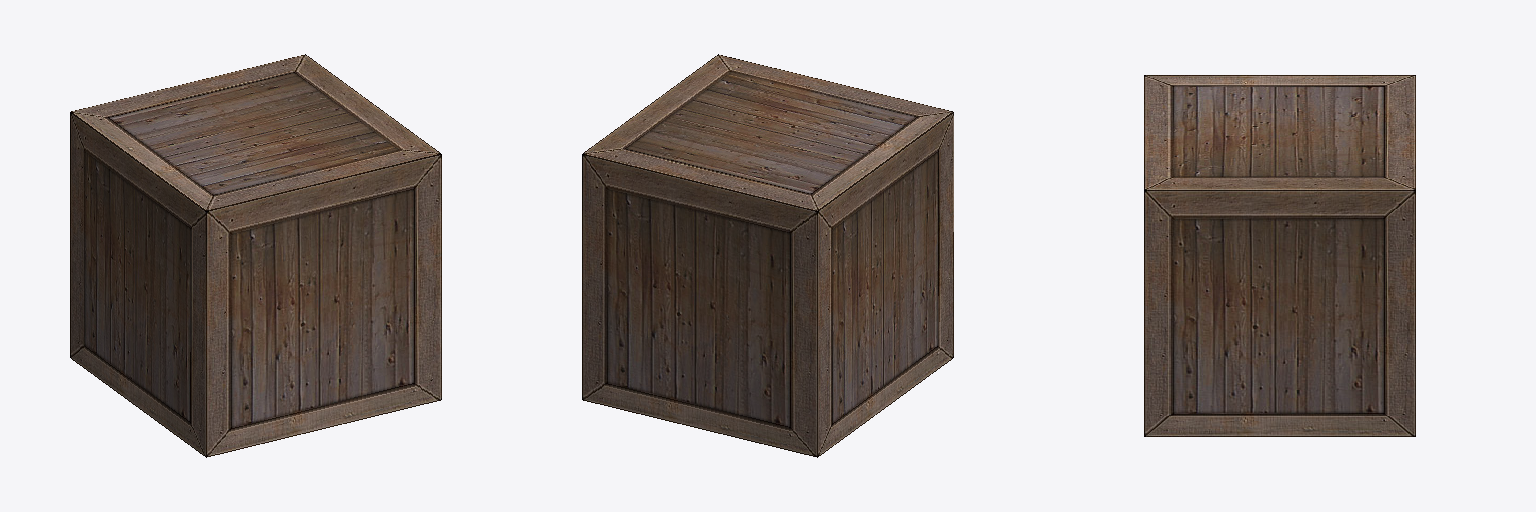
3 views of the same model, side by side, from view 1: azimuth 30°, elevation 25°; view 2: azimuth 150°, elevation 25°; view 3: azimuth 270°, elevation 25° (orthographic).
Visible parts, largest first — view 1: Cube; view 2: Cube; view 3: Cube.
Boxes of the visible parts, x1=… form: Cube: x1=70, y1=54, x2=441, y2=457; Cube: x1=582, y1=54, x2=953, y2=457; Cube: x1=1144, y1=75, x2=1415, y2=436.
Bounding box in the file's own units: 2 × 2 × 2.
1 materials, 1 textured.